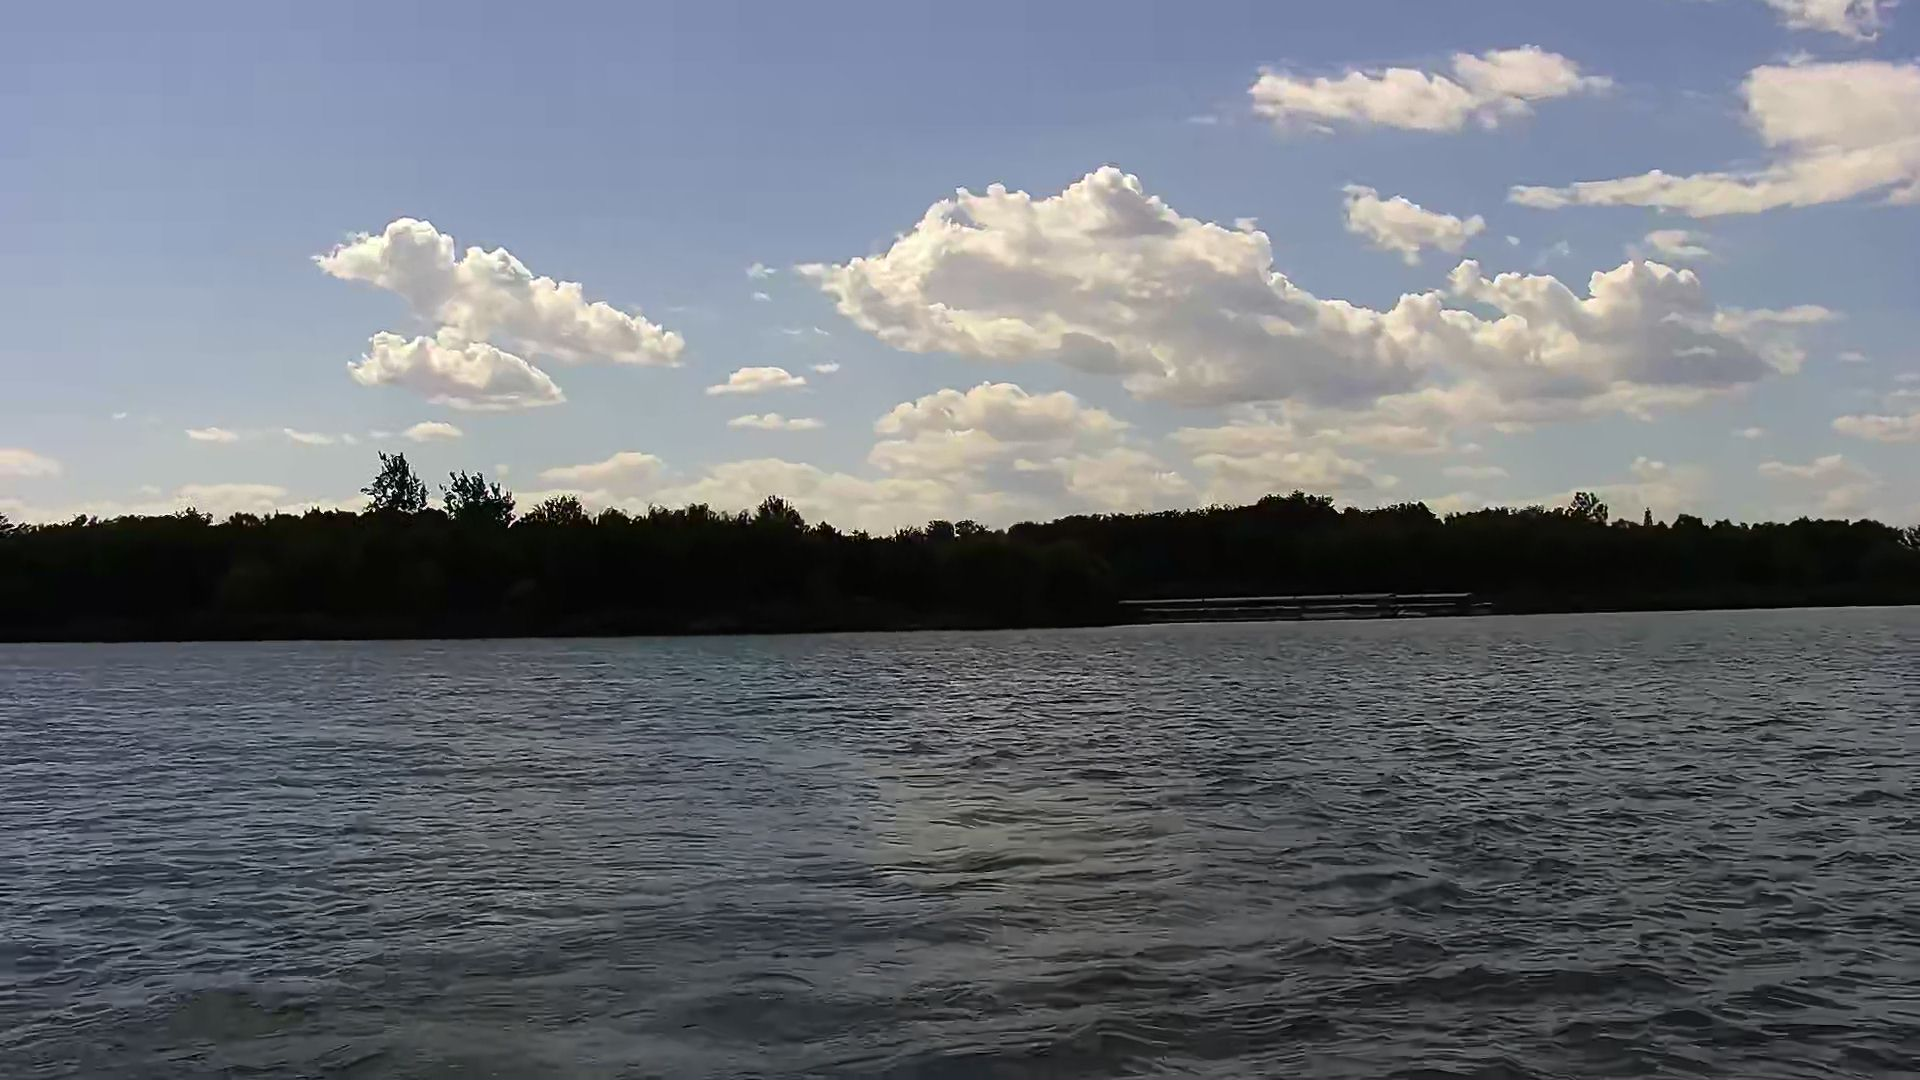harbor: (1124, 593, 1487, 622)
